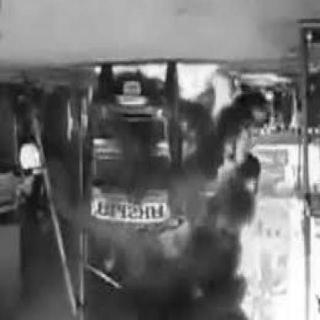Fire: (78, 97, 90, 144), (64, 103, 74, 143), (92, 65, 102, 81)
Smoke: (0, 240, 279, 320)
